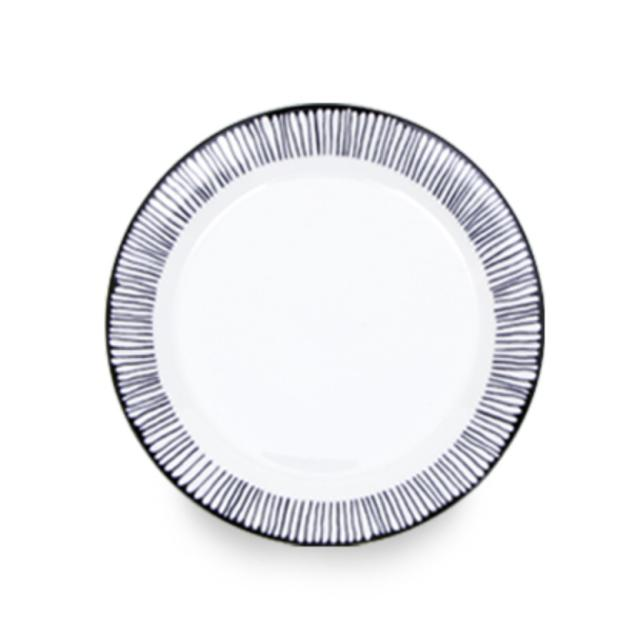recyclable: (96, 95, 550, 556)
